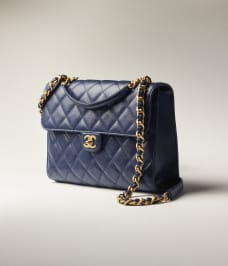channel: (27, 66, 188, 203), (52, 108, 137, 134), (134, 86, 151, 190), (80, 134, 107, 157)
